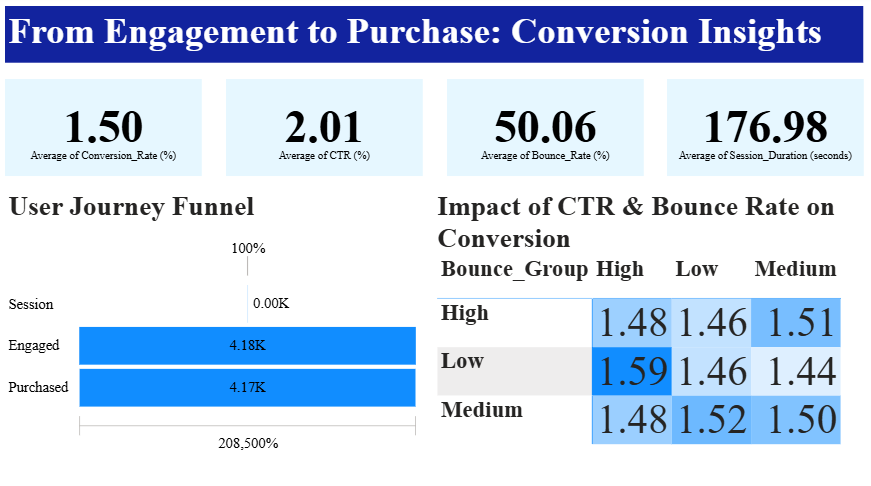

This screenshot's page, from the dashboard's own definition file:
{"tool":"powerbi","page":{"name":"Page 1","canvas":[1280,720],"ordinal":0},"visuals":[{"type":"textbox","box":[10.2,14.6,1255.6,83.4],"z":0},{"type":"card","fields":{"Values":["Avg(synthetic_ecommerce_data.Conversion_Rate (%))"]},"box":[10.2,122,287.8,142.2],"z":1000},{"type":"card","fields":{"Values":["Avg(synthetic_ecommerce_data.CTR (%))"]},"box":[333.6,122,287.8,142.2],"z":2000},{"type":"card","fields":{"Values":["Avg(synthetic_ecommerce_data.Bounce_Rate (%))"]},"box":[657,122,287.8,142.2],"z":3000},{"type":"card","fields":{"Values":["Avg(synthetic_ecommerce_data.Session_Duration (seconds))"]},"box":[978.7,122,287.8,142.2],"z":4000},{"type":"funnel","title":"User Journey Funnel","fields":{"Y":["CountNonNull(synthetic_ecommerce_data.Session_ID)"],"Category":["synthetic_ecommerce_data.Stage"]},"box":[10.2,283.4,611.2,409.7],"z":5000},{"type":"pivotTable","title":"Impact of CTR & Bounce Rate on Conversion","fields":{"Rows":["synthetic_ecommerce_data.Bounce_Group"],"Columns":["synthetic_ecommerce_data.CTR_Group"],"Values":["Avg(synthetic_ecommerce_data.Conversion_Rate (%))"]},"box":[638.4,283.4,628.1,409.7],"z":5001}]}

Visuals, with their boxes in screenshot pixels (x1, y1, x2, y2), scaled from the page's 1280x720 canvas onto the 871x486 screenshot:
textbox: 7:10:861:66
card - Avg(synthetic_ecommerce_data.Conversion_Rate (%)): 7:82:203:178
card - Avg(synthetic_ecommerce_data.CTR (%)): 227:82:423:178
card - Avg(synthetic_ecommerce_data.Bounce_Rate (%)): 447:82:643:178
card - Avg(synthetic_ecommerce_data.Session_Duration (seconds)): 666:82:862:178
"User Journey Funnel" funnel: 7:191:423:468
"Impact of CTR & Bounce Rate on Conversion" pivotTable: 434:191:862:468
